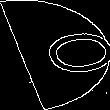O_W: (8, 28, 102, 82)
